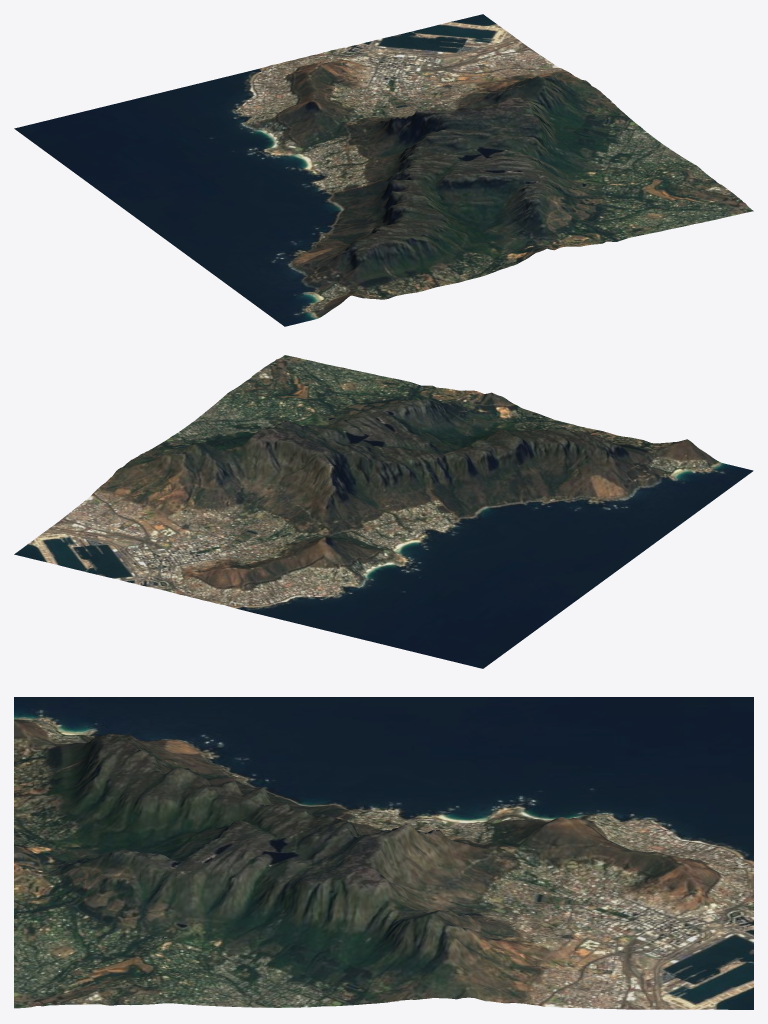
Rendered from nature_table_dem_s2.glb.
The picture shows the model from 3 angles, top to bottom: view 1: azimuth 30°, elevation 25°; view 2: azimuth 150°, elevation 25°; view 3: azimuth 270°, elevation 25°; orthographic projection. The views are drawn at different scales.
Parts seen in each view (by area): view 1: R99_DEM_GLB_nature_table; view 2: R99_DEM_GLB_nature_table; view 3: R99_DEM_GLB_nature_table.
Part boxes in pixels (bbox=[...]): R99_DEM_GLB_nature_table: bbox=[14, 14, 753, 326]; R99_DEM_GLB_nature_table: bbox=[14, 355, 753, 668]; R99_DEM_GLB_nature_table: bbox=[14, 697, 753, 1009].
Size of the model in its own units: 10.8 by 0.9602 by 10.8.
1 material, 1 textured.
